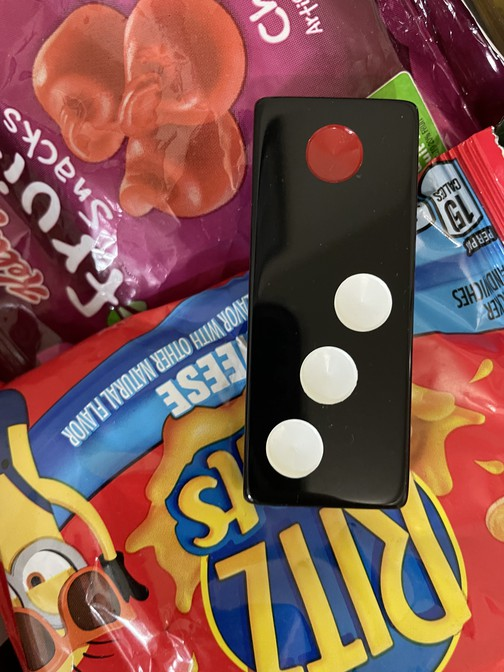goose: (244, 96, 421, 511)
